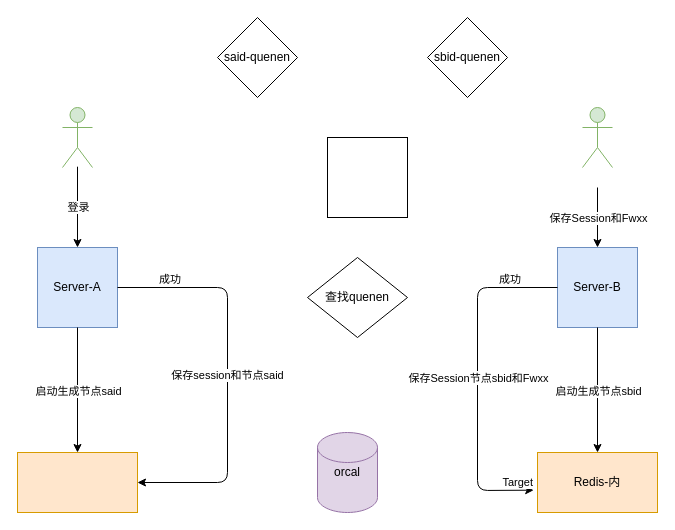
This 675x530 diagram has some shape labels left out. Each missing label, with the centre of its shape:
"KF" goes at pixel 597 137.
"KH" goes at pixel 77 137.
"Redis-外" goes at pixel 77 482.
"通过接收者id查找quenen" goes at pixel 367 177.
